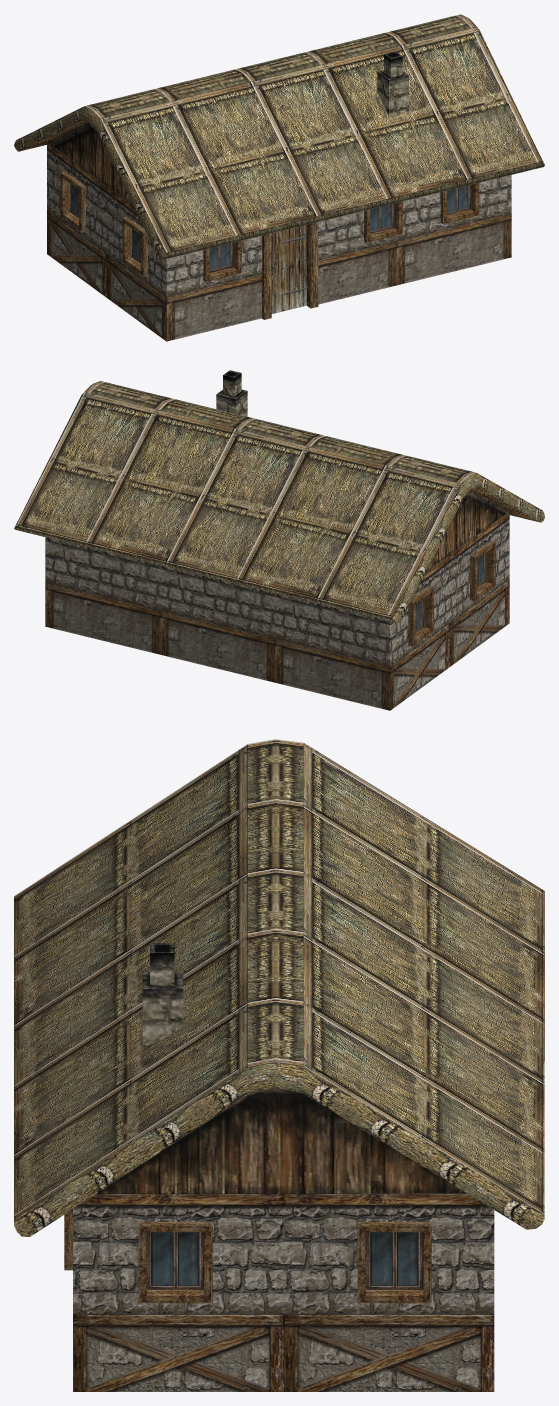
File: rd_house1.glb
The picture shows the model from 3 angles, top to bottom: view 1: azimuth 30°, elevation 25°; view 2: azimuth 150°, elevation 25°; view 3: azimuth 270°, elevation 25°; orthographic projection. The views are drawn at different scales.
Visible parts, largest first — view 1: rd_house1-col; view 2: rd_house1-col; view 3: rd_house1-col.
Boxes of the visible parts, left/top/right/bottom form: rd_house1-col: left=14, top=14, right=544, bottom=341; rd_house1-col: left=14, top=370, right=544, bottom=710; rd_house1-col: left=14, top=739, right=544, bottom=1391.
Bounding box in the file's own units: 9.47 × 4.89 × 6.46.
7 materials, 7 textured.
